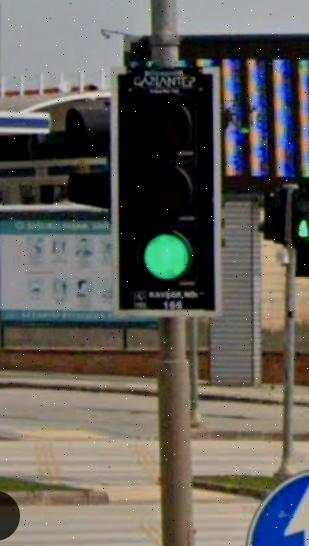greenlight: (118, 75, 213, 306)
